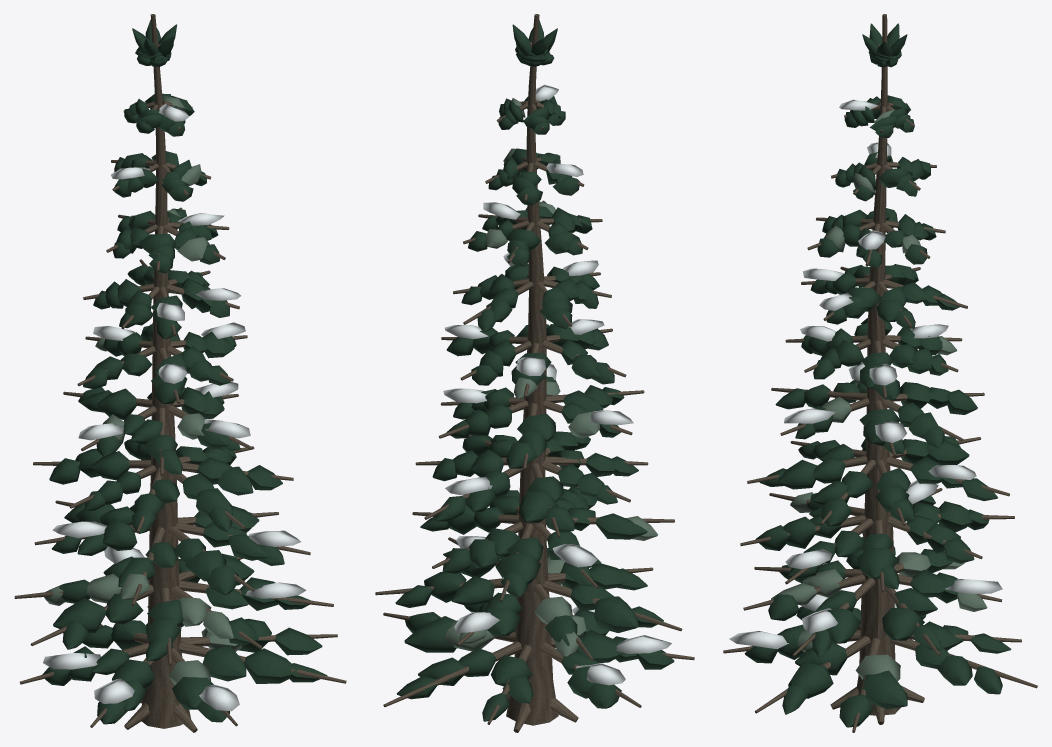
The model's file is PZ_Pine_LightSnow.glb.
3 views of the same model, side by side, from view 1: azimuth 30°, elevation 25°; view 2: azimuth 150°, elevation 25°; view 3: azimuth 270°, elevation 25° (orthographic). The views are drawn at different scales.
Parts seen in each view (by area): view 1: RENDER_Pine_LightSnow_FoliageSprays_Tree_Needles_Evergreen, RENDER_Pine_LightSnow_WoodyBoughs_Tree_Bark_Pine, RENDER_Pine_LightSnow_BoughSnowCaps_Tree_Snow_Fresh, RENDER_Pine_LightSnow_Trunk_Pine_Tree_Bark_Pine, RENDER_Pine_LightSnow_FoliageSprays_Tree_Needles_Frosted, RENDER_Pine_LightSnow_RootFlare_Tree_Bark_Pine; view 2: RENDER_Pine_LightSnow_FoliageSprays_Tree_Needles_Evergreen, RENDER_Pine_LightSnow_WoodyBoughs_Tree_Bark_Pine, RENDER_Pine_LightSnow_Trunk_Pine_Tree_Bark_Pine, RENDER_Pine_LightSnow_BoughSnowCaps_Tree_Snow_Fresh, RENDER_Pine_LightSnow_FoliageSprays_Tree_Needles_Frosted, RENDER_Pine_LightSnow_RootFlare_Tree_Bark_Pine; view 3: RENDER_Pine_LightSnow_FoliageSprays_Tree_Needles_Evergreen, RENDER_Pine_LightSnow_WoodyBoughs_Tree_Bark_Pine, RENDER_Pine_LightSnow_BoughSnowCaps_Tree_Snow_Fresh, RENDER_Pine_LightSnow_Trunk_Pine_Tree_Bark_Pine, RENDER_Pine_LightSnow_FoliageSprays_Tree_Needles_Frosted, RENDER_Pine_LightSnow_RootFlare_Tree_Bark_Pine.
Boxes of the visible parts, x1,y1,x2,y2 form: RENDER_Pine_LightSnow_FoliageSprays_Tree_Needles_Evergreen: (42, 19, 327, 724); RENDER_Pine_LightSnow_WoodyBoughs_Tree_Bark_Pine: (14, 43, 346, 727); RENDER_Pine_LightSnow_BoughSnowCaps_Tree_Snow_Fresh: (43, 104, 306, 711); RENDER_Pine_LightSnow_Trunk_Pine_Tree_Bark_Pine: (141, 14, 190, 728); RENDER_Pine_LightSnow_FoliageSprays_Tree_Needles_Frosted: (44, 96, 242, 684); RENDER_Pine_LightSnow_RootFlare_Tree_Bark_Pine: (124, 698, 197, 732); RENDER_Pine_LightSnow_FoliageSprays_Tree_Needles_Evergreen: (395, 20, 674, 721); RENDER_Pine_LightSnow_WoodyBoughs_Tree_Bark_Pine: (375, 42, 694, 724); RENDER_Pine_LightSnow_Trunk_Pine_Tree_Bark_Pine: (506, 14, 558, 725); RENDER_Pine_LightSnow_BoughSnowCaps_Tree_Snow_Fresh: (443, 84, 671, 685); RENDER_Pine_LightSnow_FoliageSprays_Tree_Needles_Frosted: (444, 98, 657, 657); RENDER_Pine_LightSnow_RootFlare_Tree_Bark_Pine: (507, 694, 578, 732); RENDER_Pine_LightSnow_FoliageSprays_Tree_Needles_Evergreen: (744, 23, 1011, 727); RENDER_Pine_LightSnow_WoodyBoughs_Tree_Bark_Pine: (723, 45, 1037, 732); RENDER_Pine_LightSnow_BoughSnowCaps_Tree_Snow_Fresh: (729, 99, 1002, 649); RENDER_Pine_LightSnow_Trunk_Pine_Tree_Bark_Pine: (856, 14, 900, 715); RENDER_Pine_LightSnow_FoliageSprays_Tree_Needles_Frosted: (771, 109, 987, 681); RENDER_Pine_LightSnow_RootFlare_Tree_Bark_Pine: (830, 685, 924, 724).
Bounding box in the file's own units: 4.09 × 9.1 × 3.78.
4 materials, 4 textured.
